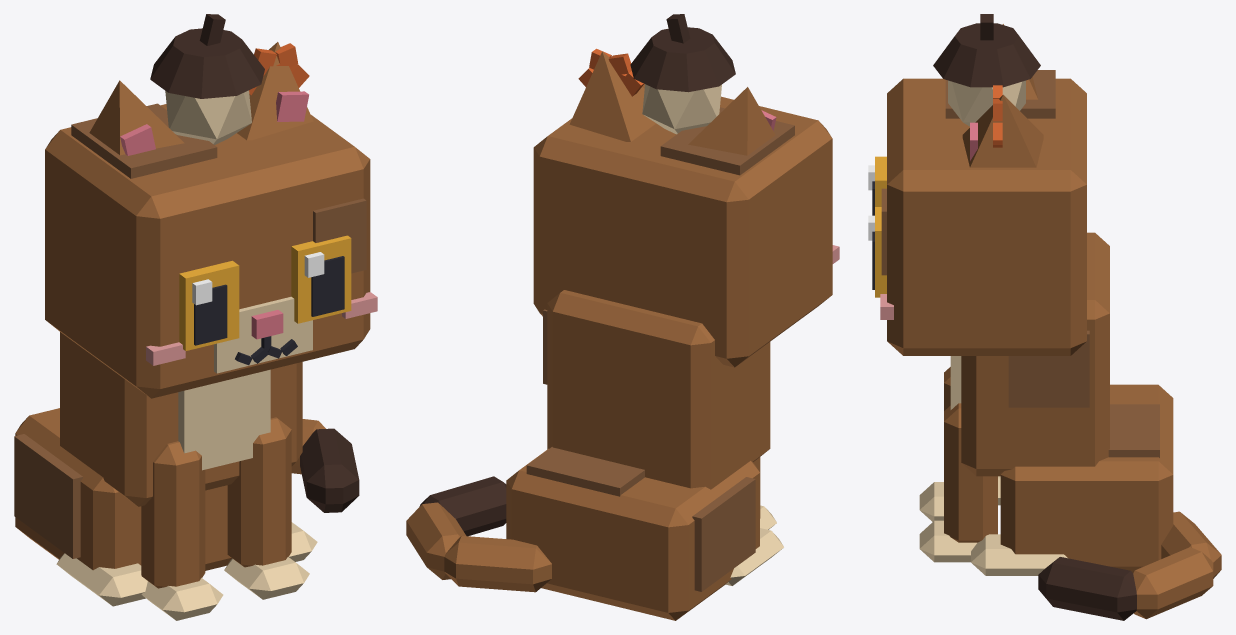
Rendered from CatCafe_Cat_AcornCap_Sit.fbx.
3 renders of one model, left to right at view 1: azimuth 30°, elevation 25°; view 2: azimuth 150°, elevation 25°; view 3: azimuth 270°, elevation 25°, orthographic. The views are drawn at different scales.
Parts seen in each view (by area): view 1: CatCafe_Cat_AcornCap_Sit_Head, CatCafe_Cat_AcornCap_Sit_Body, CatCafe_Cat_AcornCap_Sit_Prop, CatCafe_Cat_AcornCap_Sit_LegF2, CatCafe_Cat_AcornCap_Sit_LegF1, CatCafe_Cat_AcornCap_Sit_Eye2, CatCafe_Cat_AcornCap_Sit_Eye1, CatCafe_Cat_AcornCap_Sit_Tail, CatCafe_Cat_AcornCap_Sit_EarR, CatCafe_Cat_AcornCap_Sit_EarL; view 2: CatCafe_Cat_AcornCap_Sit_Body, CatCafe_Cat_AcornCap_Sit_Head, CatCafe_Cat_AcornCap_Sit_Tail, CatCafe_Cat_AcornCap_Sit_Prop, CatCafe_Cat_AcornCap_Sit_EarL, CatCafe_Cat_AcornCap_Sit_EarR; view 3: CatCafe_Cat_AcornCap_Sit_Head, CatCafe_Cat_AcornCap_Sit_Body, CatCafe_Cat_AcornCap_Sit_Tail, CatCafe_Cat_AcornCap_Sit_Prop, CatCafe_Cat_AcornCap_Sit_LegF1, CatCafe_Cat_AcornCap_Sit_EarL, CatCafe_Cat_AcornCap_Sit_LegF2, CatCafe_Cat_AcornCap_Sit_Eye1, CatCafe_Cat_AcornCap_Sit_Eye2.
Part boxes in pixels (left/top/right/bottom): CatCafe_Cat_AcornCap_Sit_Head: left=45, top=103, right=377, bottom=398; CatCafe_Cat_AcornCap_Sit_Body: left=14, top=332, right=317, bottom=606; CatCafe_Cat_AcornCap_Sit_Prop: left=150, top=14, right=309, bottom=144; CatCafe_Cat_AcornCap_Sit_LegF2: left=141, top=441, right=223, bottom=620; CatCafe_Cat_AcornCap_Sit_LegF1: left=224, top=417, right=309, bottom=599; CatCafe_Cat_AcornCap_Sit_Eye2: left=179, top=260, right=239, bottom=350; CatCafe_Cat_AcornCap_Sit_Eye1: left=291, top=235, right=351, bottom=323; CatCafe_Cat_AcornCap_Sit_Tail: left=291, top=419, right=359, bottom=512; CatCafe_Cat_AcornCap_Sit_EarR: left=89, top=80, right=184, bottom=155; CatCafe_Cat_AcornCap_Sit_EarL: left=237, top=42, right=313, bottom=140; CatCafe_Cat_AcornCap_Sit_Body: left=506, top=290, right=783, bottom=620; CatCafe_Cat_AcornCap_Sit_Head: left=533, top=84, right=839, bottom=367; CatCafe_Cat_AcornCap_Sit_Tail: left=406, top=476, right=551, bottom=592; CatCafe_Cat_AcornCap_Sit_Prop: left=578, top=14, right=735, bottom=134; CatCafe_Cat_AcornCap_Sit_EarL: left=569, top=51, right=655, bottom=141; CatCafe_Cat_AcornCap_Sit_EarR: left=688, top=87, right=776, bottom=155; CatCafe_Cat_AcornCap_Sit_Head: left=880, top=70, right=1086, bottom=355; CatCafe_Cat_AcornCap_Sit_Body: left=950, top=232, right=1173, bottom=575; CatCafe_Cat_AcornCap_Sit_Tail: left=1038, top=511, right=1221, bottom=620; CatCafe_Cat_AcornCap_Sit_Prop: left=933, top=14, right=1040, bottom=147; CatCafe_Cat_AcornCap_Sit_LegF1: left=919, top=403, right=997, bottom=562; CatCafe_Cat_AcornCap_Sit_EarL: left=962, top=94, right=1043, bottom=167; CatCafe_Cat_AcornCap_Sit_LegF2: left=919, top=367, right=950, bottom=521; CatCafe_Cat_AcornCap_Sit_Eye1: left=868, top=207, right=886, bottom=297; CatCafe_Cat_AcornCap_Sit_Eye2: left=868, top=156, right=886, bottom=215.
Size of the model in its own units: 1.24 by 2.03 by 1.24.
Materials: 1 (1 with a texture image).
